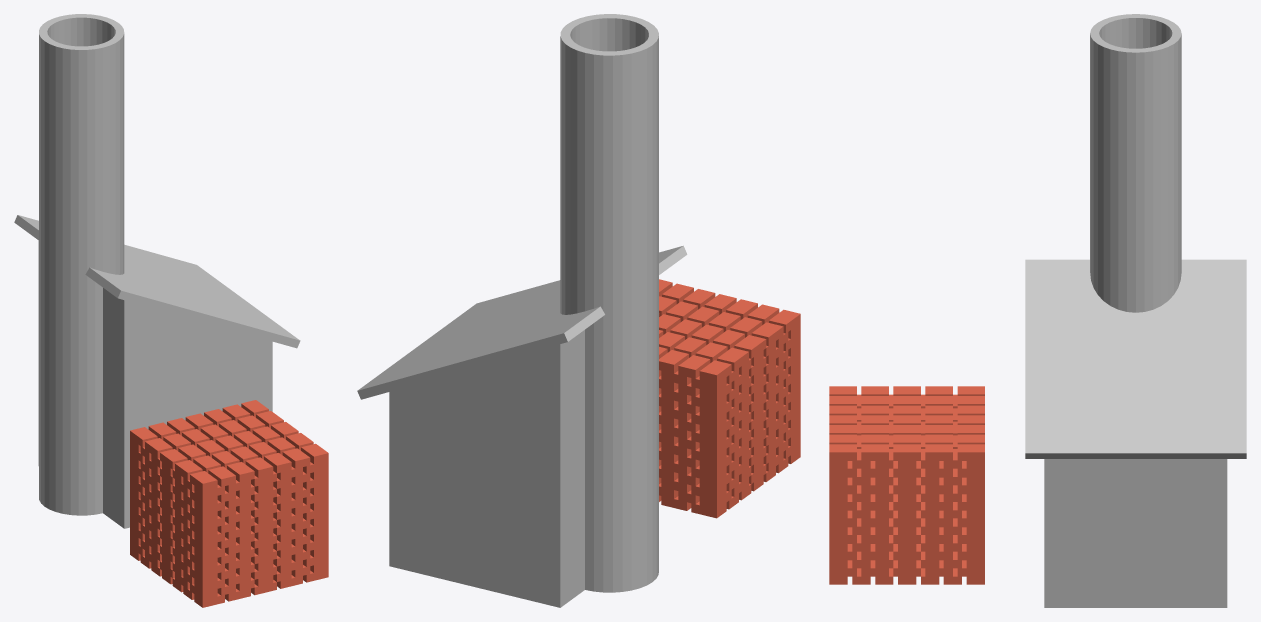
The model's file is BStonecutter.obj.
3 views of the same model, side by side, from view 1: azimuth 30°, elevation 25°; view 2: azimuth 150°, elevation 25°; view 3: azimuth 270°, elevation 25° (orthographic). The views are drawn at different scales.
Visible parts, largest first — view 1: BStonecutter; view 2: BStonecutter; view 3: BStonecutter.
Part boxes in pixels (x1,y1,x2,y2): BStonecutter: (14,14,328,607); BStonecutter: (357,14,800,607); BStonecutter: (829,14,1246,607).
Size of the model in its own units: 2.75 by 6 by 4.56.
